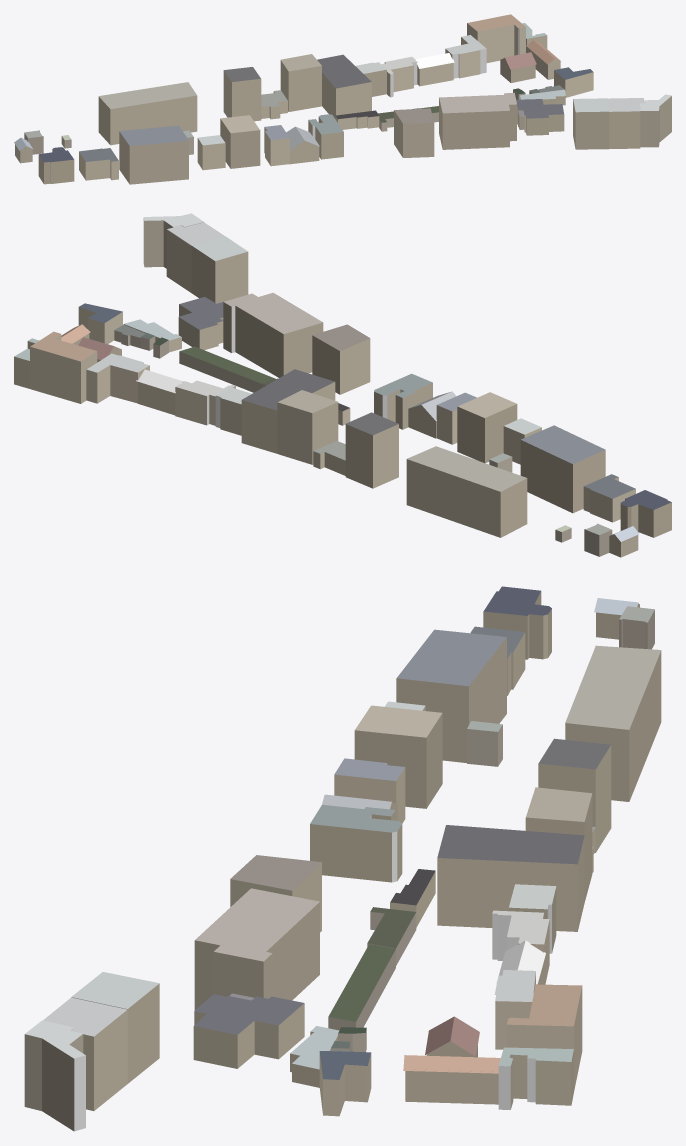
The picture shows the model from 3 angles, top to bottom: view 1: azimuth 30°, elevation 25°; view 2: azimuth 150°, elevation 25°; view 3: azimuth 270°, elevation 25°; orthographic projection. The views are drawn at different scales.
Visible parts, largest first — view 1: tuile; view 2: tuile; view 3: tuile.
Part boxes in pixels (bbox=[...]): tuile: bbox=[14, 14, 671, 184]; tuile: bbox=[14, 213, 671, 557]; tuile: bbox=[24, 586, 661, 1131].
Size of the model in its own units: 248 by 22.51 by 131.
